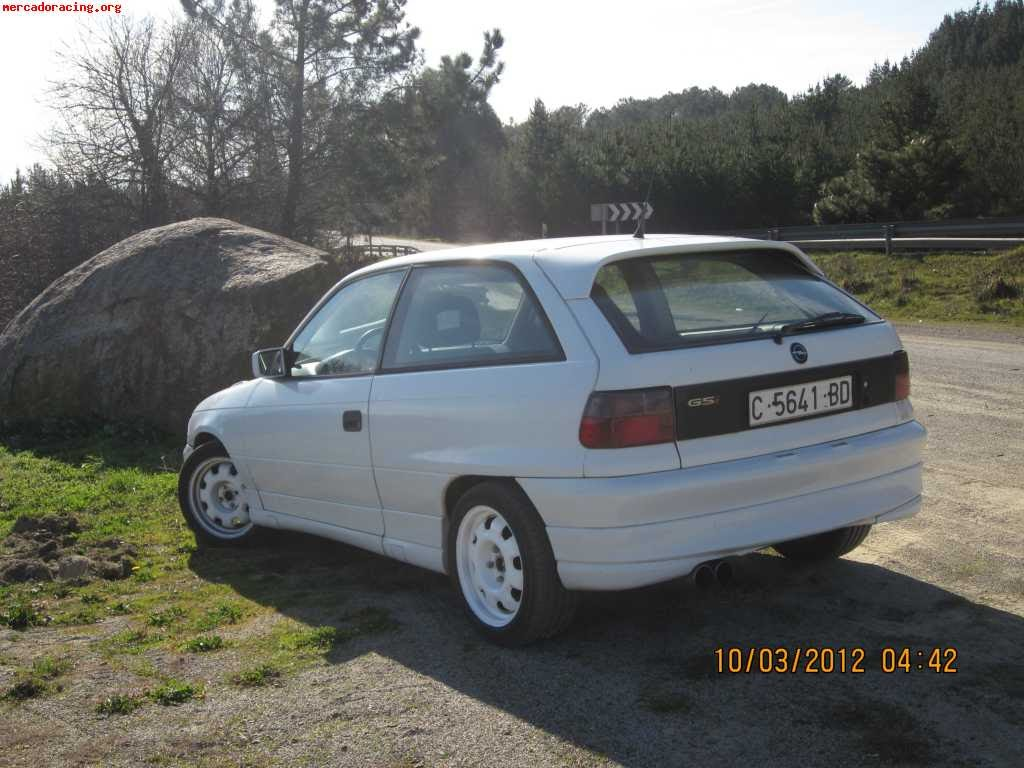car: (93, 210, 1002, 742)
